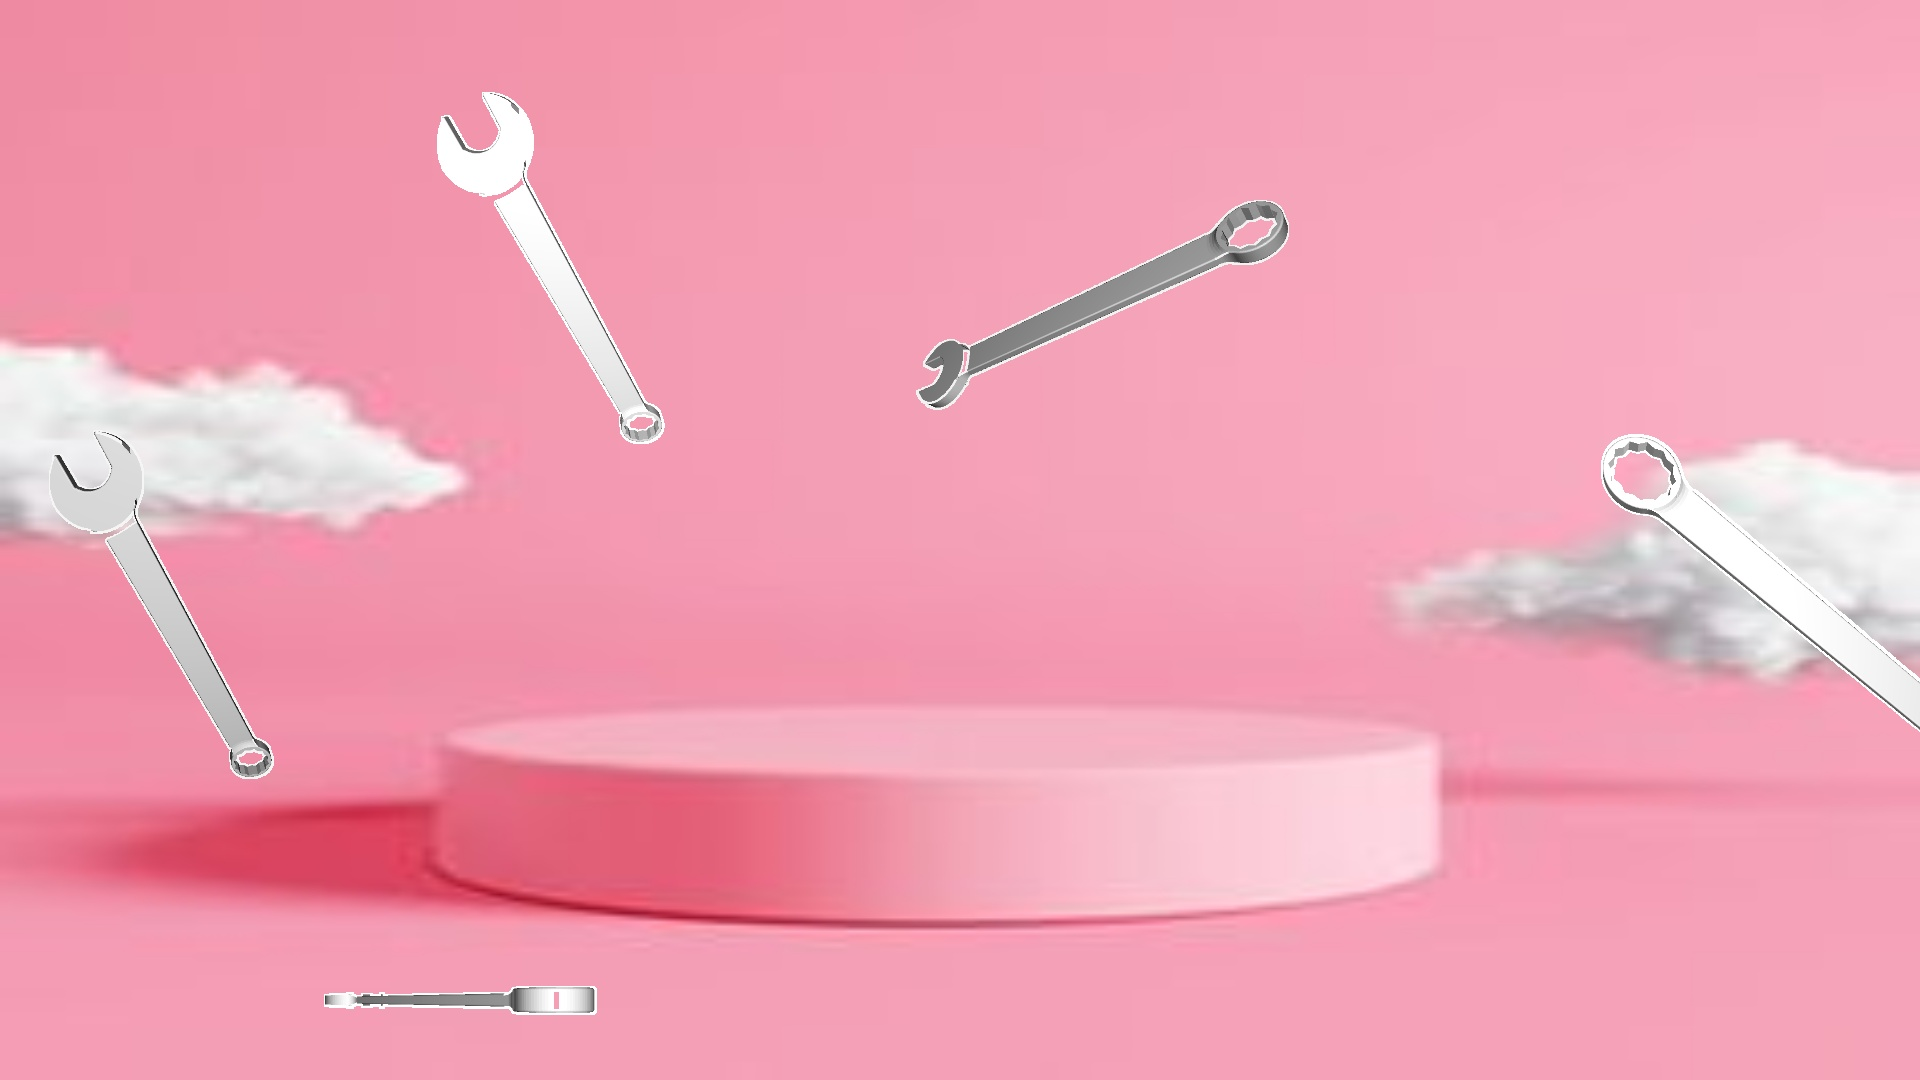Mixed Key: (1601, 434, 1919, 731), (436, 92, 665, 443), (49, 430, 273, 778), (916, 200, 1288, 409), (324, 986, 596, 1014)
